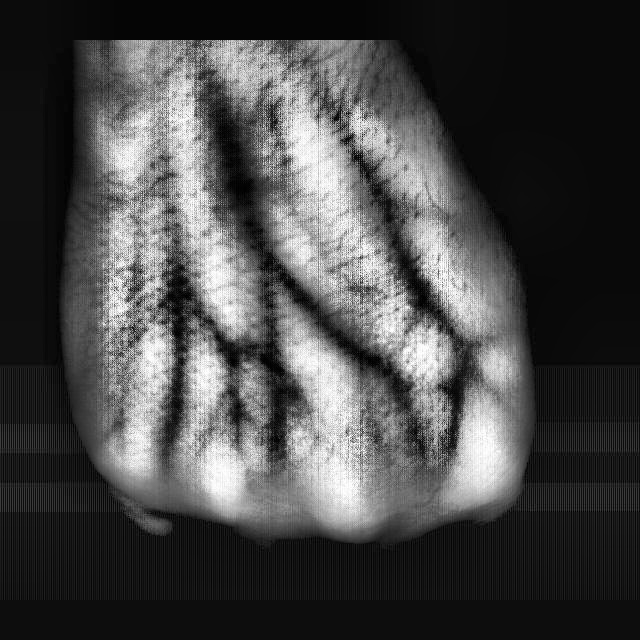Vein: (204, 116, 313, 316)
